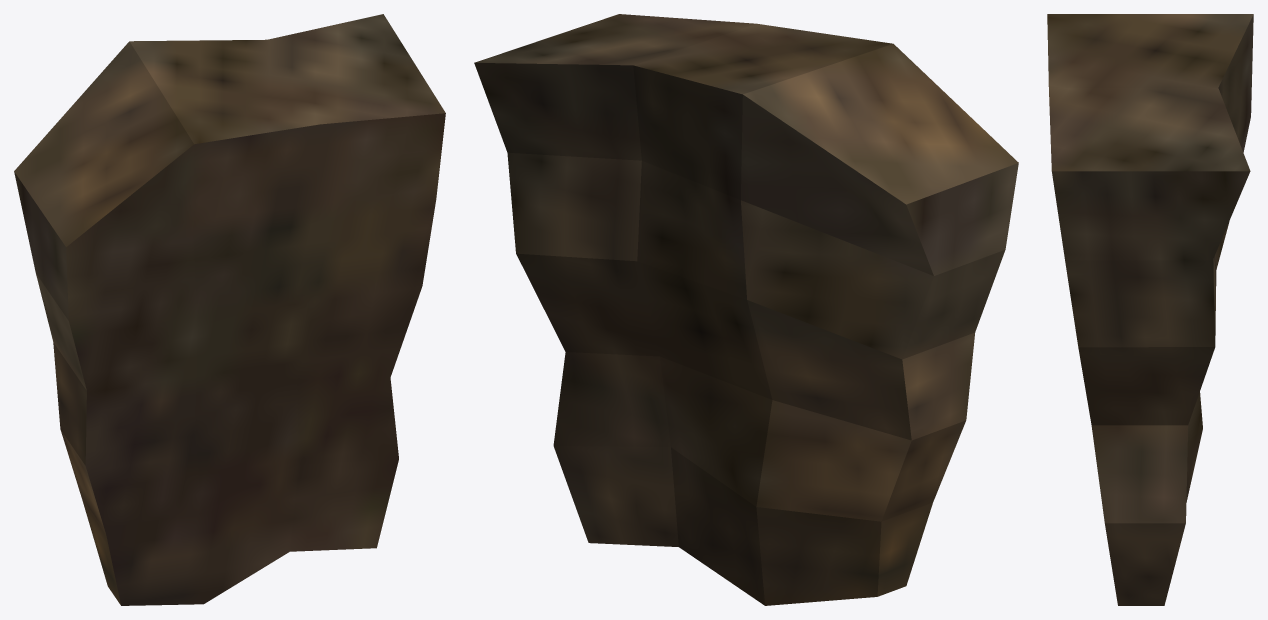
Rendered from SM_DeadTree_Debris_2.fbx.
The picture shows the model from 3 angles, left to right: view 1: azimuth 30°, elevation 25°; view 2: azimuth 150°, elevation 25°; view 3: azimuth 270°, elevation 25°; orthographic projection. The views are drawn at different scales.
Visible parts, largest first — view 1: SM_DeadTree_Debris_2; view 2: SM_DeadTree_Debris_2; view 3: SM_DeadTree_Debris_2.
Boxes of the visible parts, box(x1,y1,x2,y2) form: SM_DeadTree_Debris_2: box(14, 14, 445, 605); SM_DeadTree_Debris_2: box(474, 14, 1018, 605); SM_DeadTree_Debris_2: box(1047, 14, 1253, 605).
Bounding box in the file's own units: 20.23 × 24.03 × 8.72.
